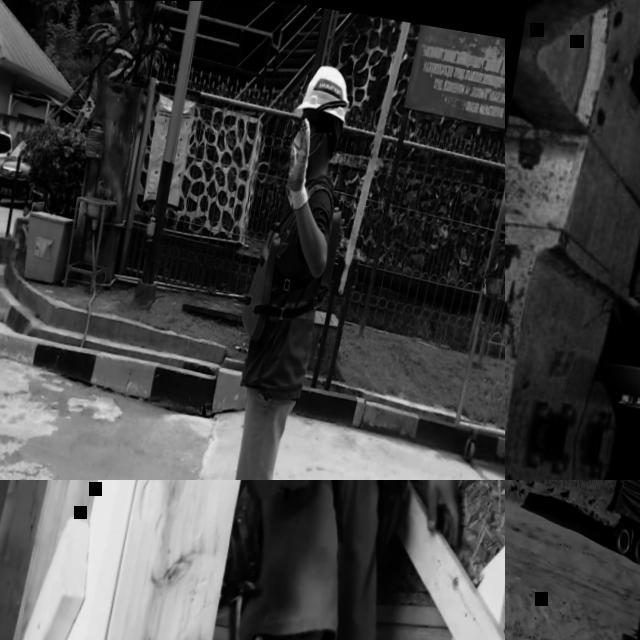helmet: (290, 60, 354, 128)
vest: (235, 190, 348, 353)
